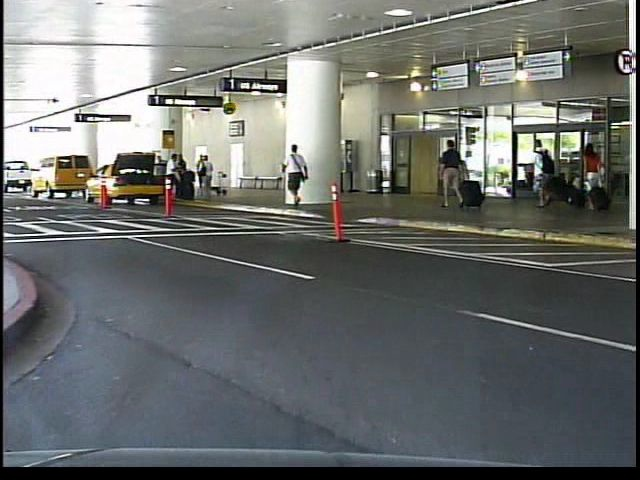person: (526, 137, 564, 217), (579, 133, 611, 220), (438, 135, 472, 211), (282, 140, 314, 211)
